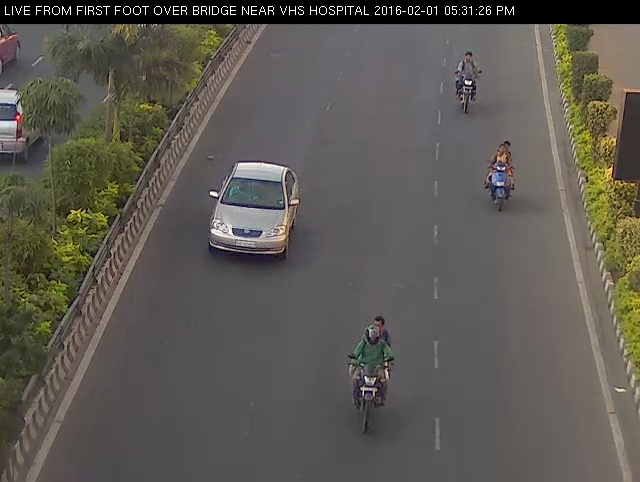Car: (198, 146, 306, 276)
Person: (338, 308, 402, 439), (481, 135, 522, 222), (449, 40, 484, 118)
